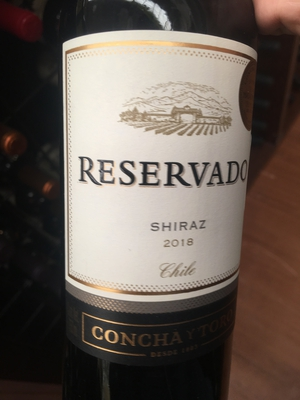reservado shiraz: (53, 13, 258, 400)
